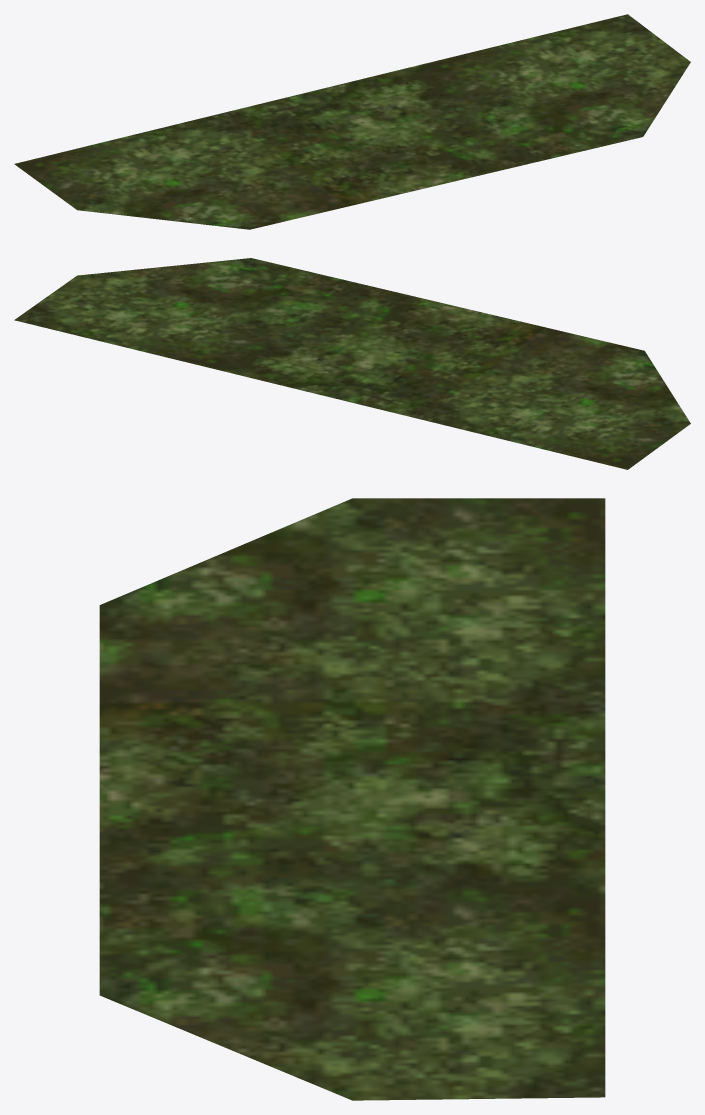
File: OVERHILL_A_01_LINE183.fbx
3 renders of one model, top to bottom at view 1: azimuth 30°, elevation 25°; view 2: azimuth 150°, elevation 25°; view 3: azimuth 270°, elevation 25°, orthographic. The views are drawn at different scales.
Parts seen in each view (by area): view 1: OVERHILL_A_01_LINE183; view 2: OVERHILL_A_01_LINE183; view 3: OVERHILL_A_01_LINE183.
Boxes of the visible parts, left/top/right/bottom form: OVERHILL_A_01_LINE183: left=14, top=14, right=690, bottom=229; OVERHILL_A_01_LINE183: left=14, top=258, right=690, bottom=469; OVERHILL_A_01_LINE183: left=99, top=498, right=605, bottom=1100.
Bounding box in the file's own units: 56088 × 279 × 20000.
Materials: 1 (1 with a texture image).
